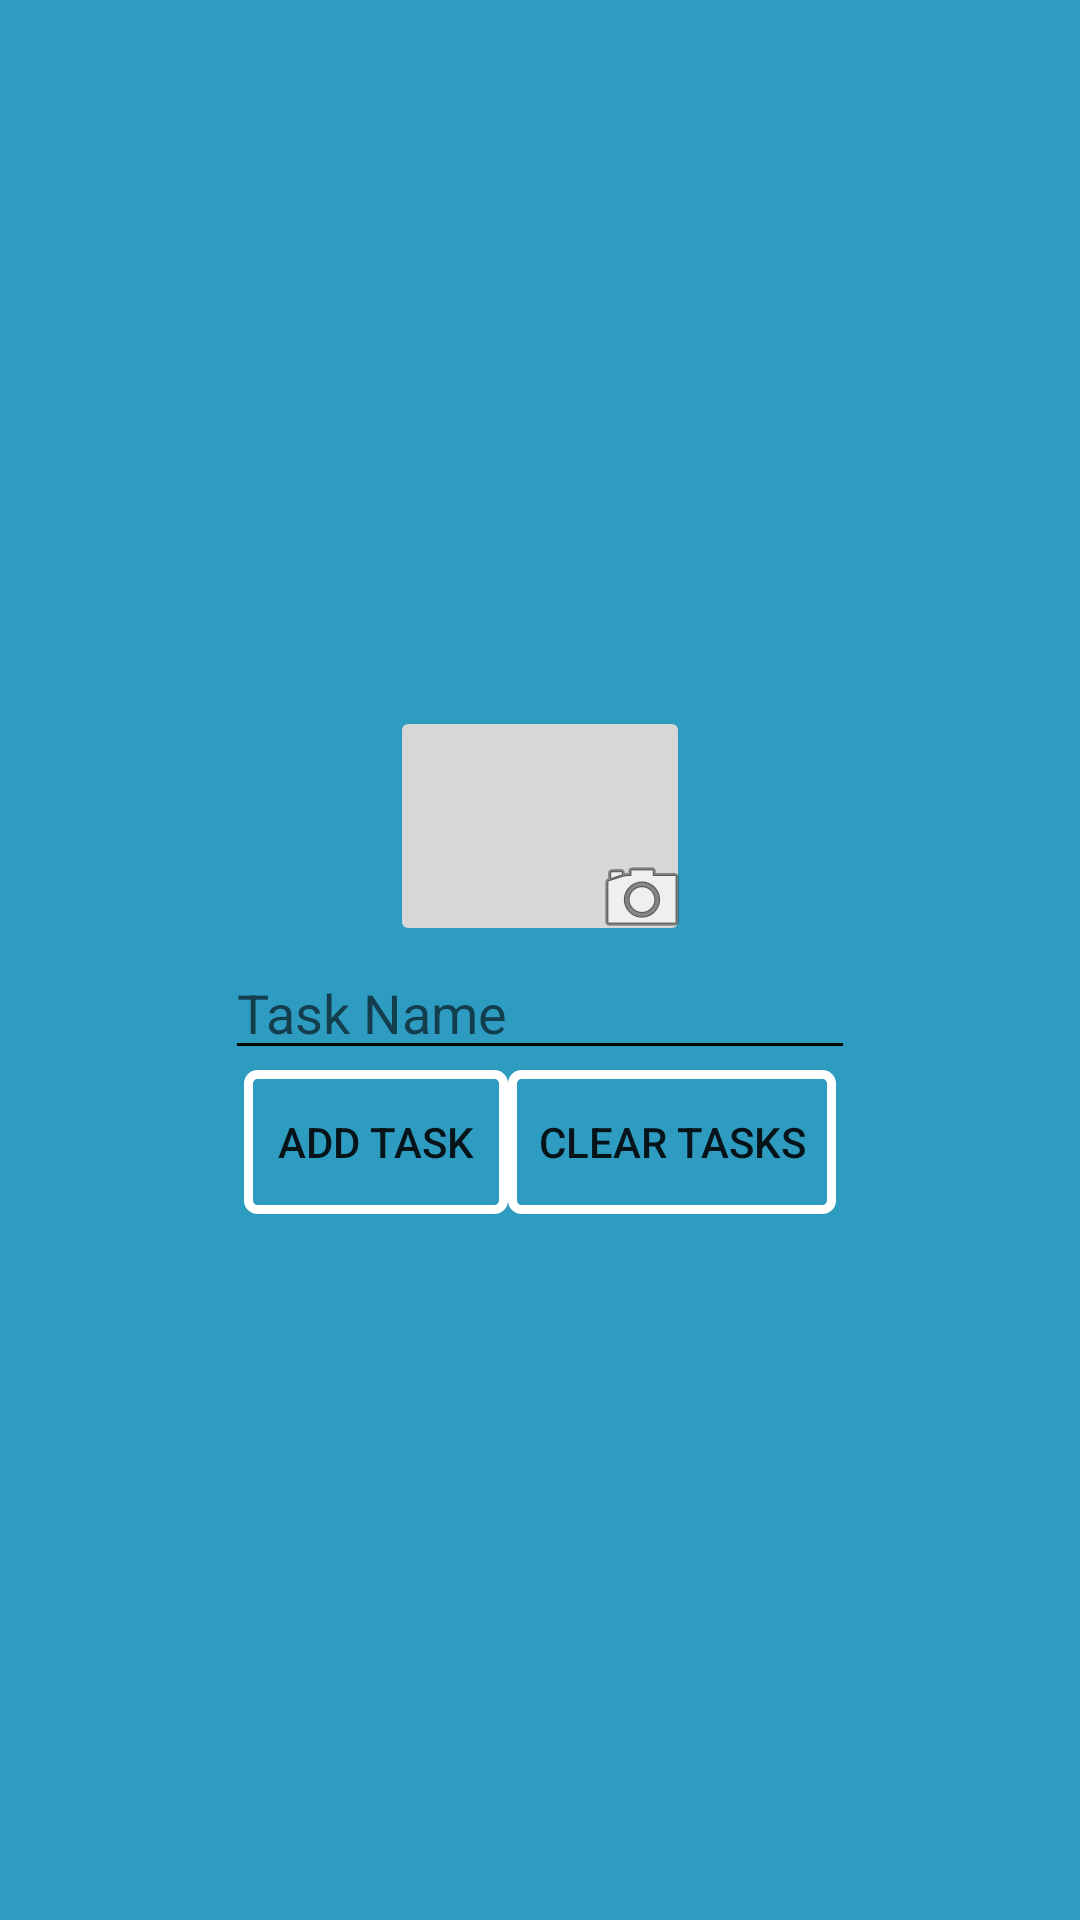

Point at icon controls on the screen. Image size 1080 × 1920, points as (x=x, y=y).
camera: (x=642, y=898)
